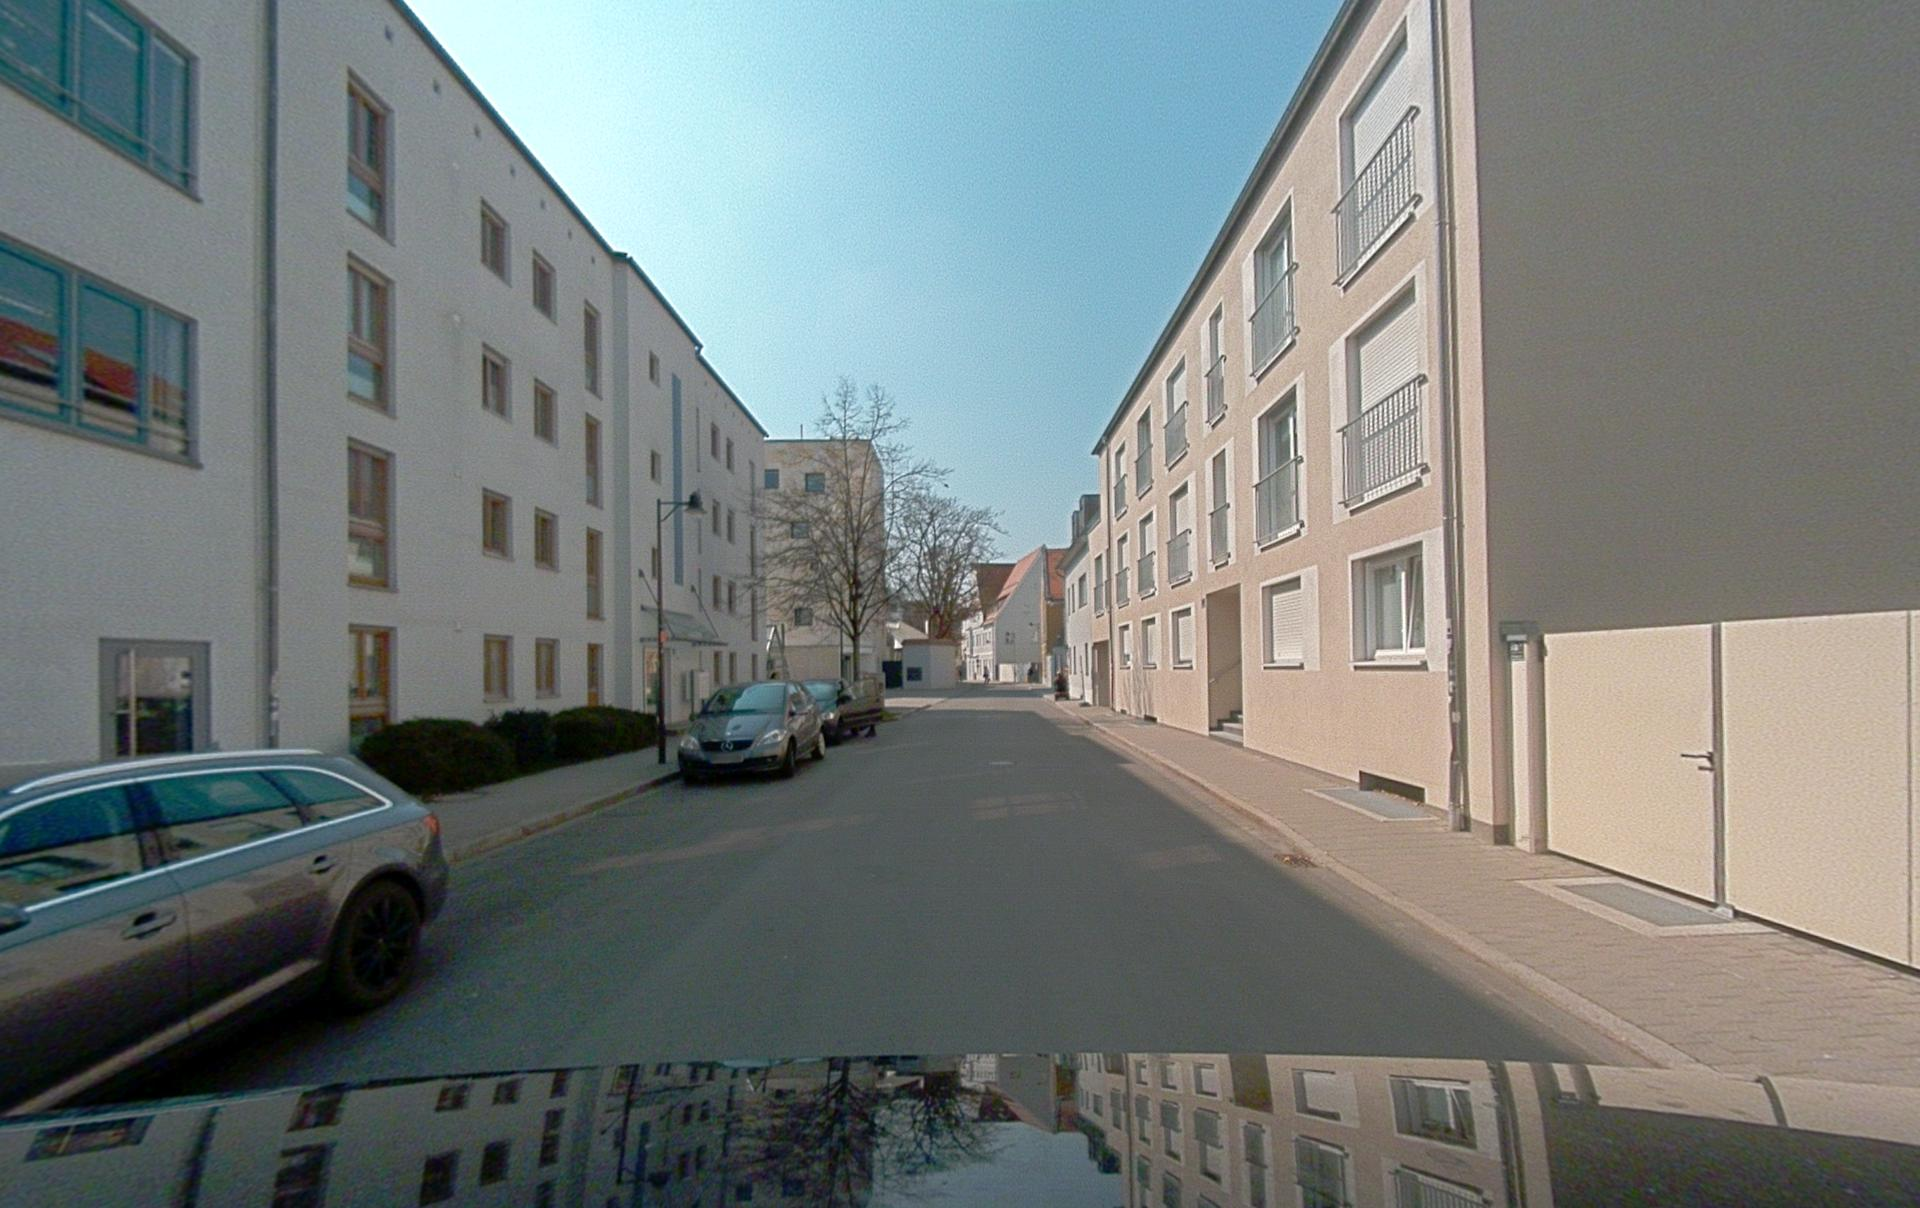car: (0, 750, 447, 1113), (678, 681, 825, 781), (803, 678, 883, 743)
